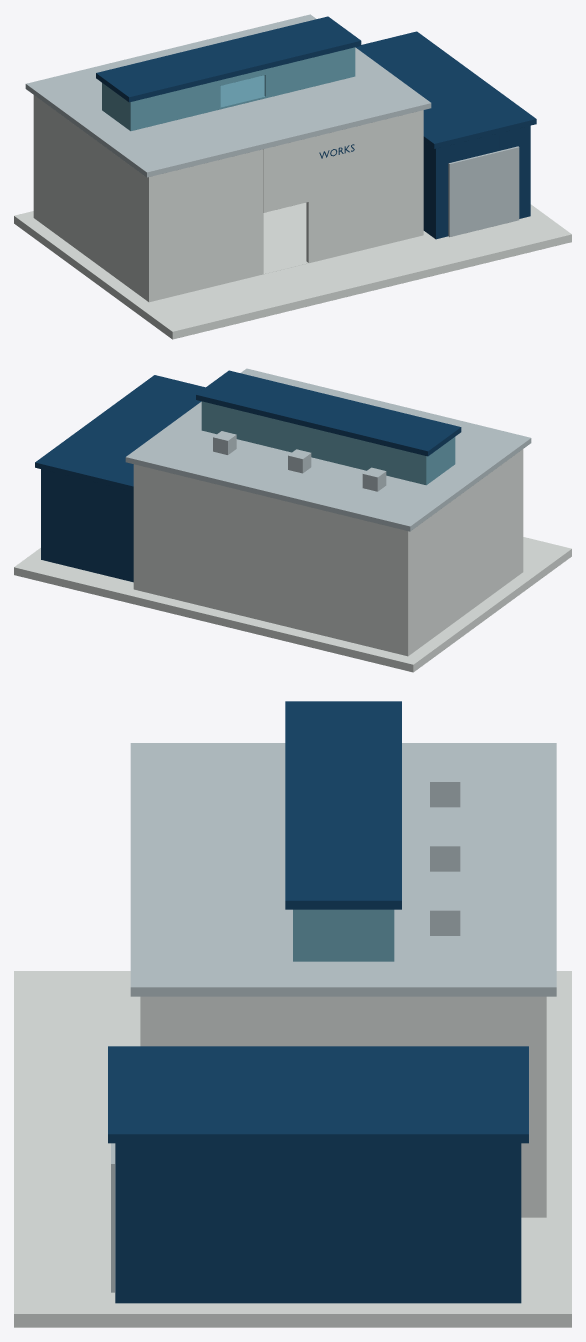
The picture shows the model from 3 angles, top to bottom: view 1: azimuth 30°, elevation 25°; view 2: azimuth 150°, elevation 25°; view 3: azimuth 270°, elevation 25°; orthographic projection. The views are drawn at different scales.
Parts seen in each view (by area): view 1: ROOF_Hall, FOUNDATION, PRODUCTION_Hall_FrontPier.001, PRODUCTION_Hall_FrontPier, PRODUCTION_Hall_Side, SERVICE_Roof, CLERESTORY_Roof, LOADING_Door, PRODUCTION_Hall_EntryHeader, PRODUCTION_Hall_Floor, CLERESTORY_FrontPier, CLERESTORY_FrontPier.001 (+6 smaller); view 2: PRODUCTION_Hall_Back, ROOF_Hall, PRODUCTION_Hall_Side, FOUNDATION, CLERESTORY_Roof, SERVICE_Wing_Back, SERVICE_Roof, CLERESTORY_Back, CLERESTORY_Side.001, VENT, PRODUCTION_Hall_Side.001, VENT.001 (+1 smaller); view 3: ROOF_Hall, SERVICE_Wing_Side.001, FOUNDATION, SERVICE_Roof, CLERESTORY_Roof, PRODUCTION_Hall_Side.001, CLERESTORY_Side, SERVICE_Wing_FrontPier.001, PRODUCTION_Hall_Back, VENT, VENT.001, VENT.002 (+2 smaller).
Part boxes in pixels (left/top/right/bottom): ROOF_Hall: left=25, top=14, right=431, bottom=177; FOUNDATION: left=14, top=204, right=571, bottom=339; PRODUCTION_Hall_FrontPier.001: left=306, top=110, right=423, bottom=262; PRODUCTION_Hall_FrontPier: left=146, top=149, right=263, bottom=301; PRODUCTION_Hall_Side: left=33, top=95, right=152, bottom=301; SERVICE_Roof: left=356, top=31, right=536, bottom=148; CLERESTORY_Roof: left=96, top=16, right=361, bottom=102; LOADING_Door: left=448, top=146, right=519, bottom=237; PRODUCTION_Hall_EntryHeader: left=263, top=138, right=308, bottom=212; PRODUCTION_Hall_Floor: left=150, top=202, right=411, bottom=301; CLERESTORY_FrontPier: left=264, top=47, right=355, bottom=97; CLERESTORY_FrontPier.001: left=130, top=80, right=220, bottom=130; PRODUCTION_Hall_Back: left=133, top=464, right=410, bottom=656; ROOF_Hall: left=125, top=368, right=531, bottom=531; PRODUCTION_Hall_Side: left=404, top=449, right=523, bottom=655; FOUNDATION: left=14, top=537, right=571, bottom=672; CLERESTORY_Roof: left=196, top=370, right=461, bottom=456; SERVICE_Wing_Back: left=41, top=469, right=133, bottom=581; SERVICE_Roof: left=35, top=375, right=205, bottom=491; CLERESTORY_Back: left=201, top=401, right=427, bottom=484; CLERESTORY_Side.001: left=424, top=437, right=455, bottom=484; VENT: left=362, top=467, right=386, bottom=491; PRODUCTION_Hall_Side.001: left=133, top=464, right=137, bottom=589; VENT.001: left=288, top=449, right=311, bottom=473; ROOF_Hall: left=130, top=743, right=556, bottom=996; SERVICE_Wing_Side.001: left=115, top=1143, right=521, bottom=1303; FOUNDATION: left=14, top=971, right=571, bottom=1327; SERVICE_Roof: left=108, top=1046, right=528, bottom=1143; CLERESTORY_Roof: left=285, top=701, right=401, bottom=909; PRODUCTION_Hall_Side.001: left=140, top=996, right=546, bottom=1217; CLERESTORY_Side: left=293, top=909, right=394, bottom=961; SERVICE_Wing_FrontPier.001: left=115, top=1143, right=123, bottom=1303; PRODUCTION_Hall_Back: left=538, top=996, right=546, bottom=1217; VENT: left=430, top=769, right=460, bottom=807; VENT.001: left=430, top=833, right=460, bottom=871; VENT.002: left=430, top=898, right=460, bottom=935.
Bounding box in the file's own units: 16 × 6.8 × 11.
